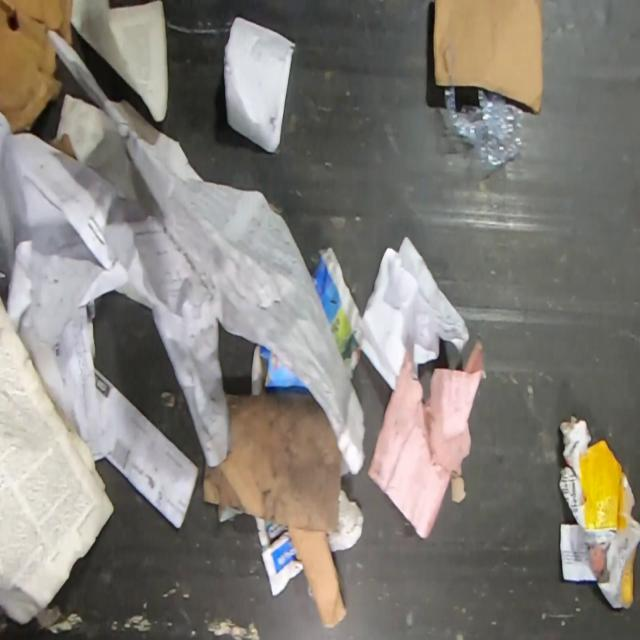cardboard: (204, 390, 348, 627), (558, 413, 640, 610), (433, 0, 545, 116), (0, 0, 76, 134)
rigid_plastic: (444, 87, 524, 171)
